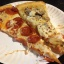pepperoni: (4, 20, 40, 42)
pizza: (1, 1, 64, 62)
